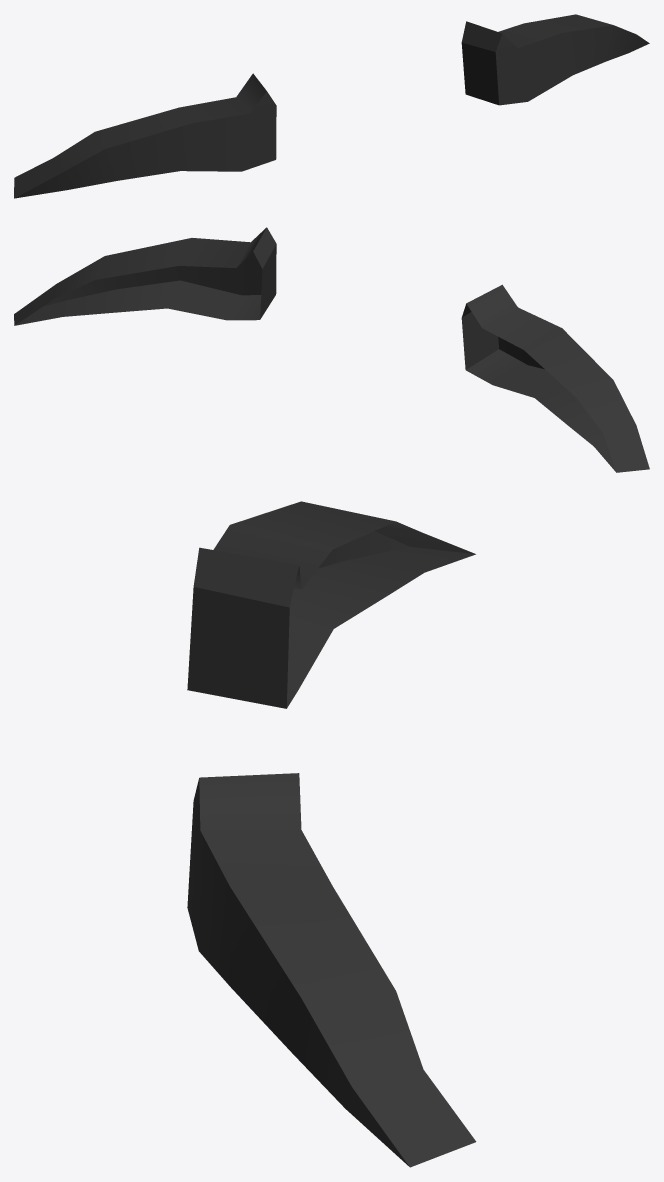
File: Brow_Black_3.fbx
3 views of the same model, one above another, from view 1: azimuth 30°, elevation 25°; view 2: azimuth 150°, elevation 25°; view 3: azimuth 270°, elevation 25° (orthographic). The views are drawn at different scales.
Visible parts, largest first — view 1: Brow_Black_3; view 2: Brow_Black_3; view 3: Brow_Black_3.
Boxes of the visible parts, x1,y1,x2,y2 form: Brow_Black_3: (14, 14, 649, 198); Brow_Black_3: (14, 227, 649, 472); Brow_Black_3: (187, 501, 476, 1167).
Bounding box in the file's own units: 32.72 × 4.78 × 6.44.
